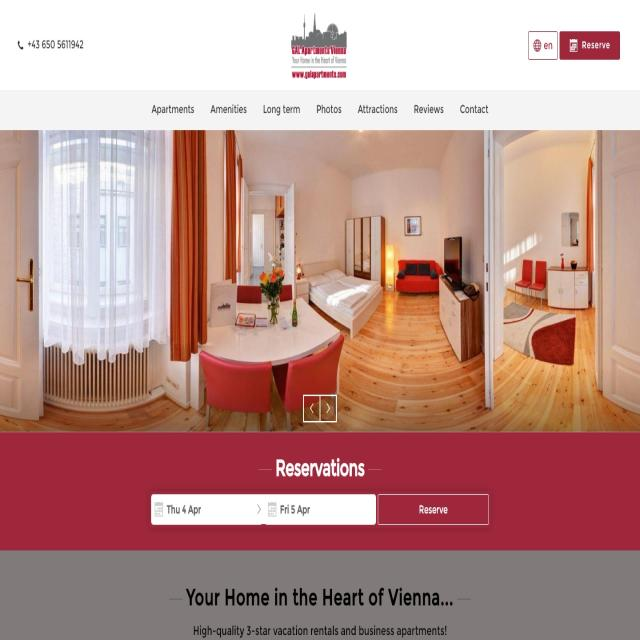button: (378, 493, 490, 526), (561, 32, 620, 62), (255, 93, 307, 125), (201, 93, 252, 125), (351, 93, 403, 123), (147, 94, 198, 124), (448, 95, 498, 124), (403, 94, 447, 126), (308, 94, 348, 125), (529, 30, 557, 60), (320, 393, 338, 424), (303, 395, 318, 421)
field: (266, 492, 376, 528), (150, 494, 266, 524)
heading: (180, 580, 456, 614), (274, 455, 368, 483)
image: (0, 126, 640, 434), (283, 13, 360, 84)
label: (268, 497, 313, 520), (156, 498, 202, 520)
text: (190, 620, 453, 640), (13, 34, 91, 52)
